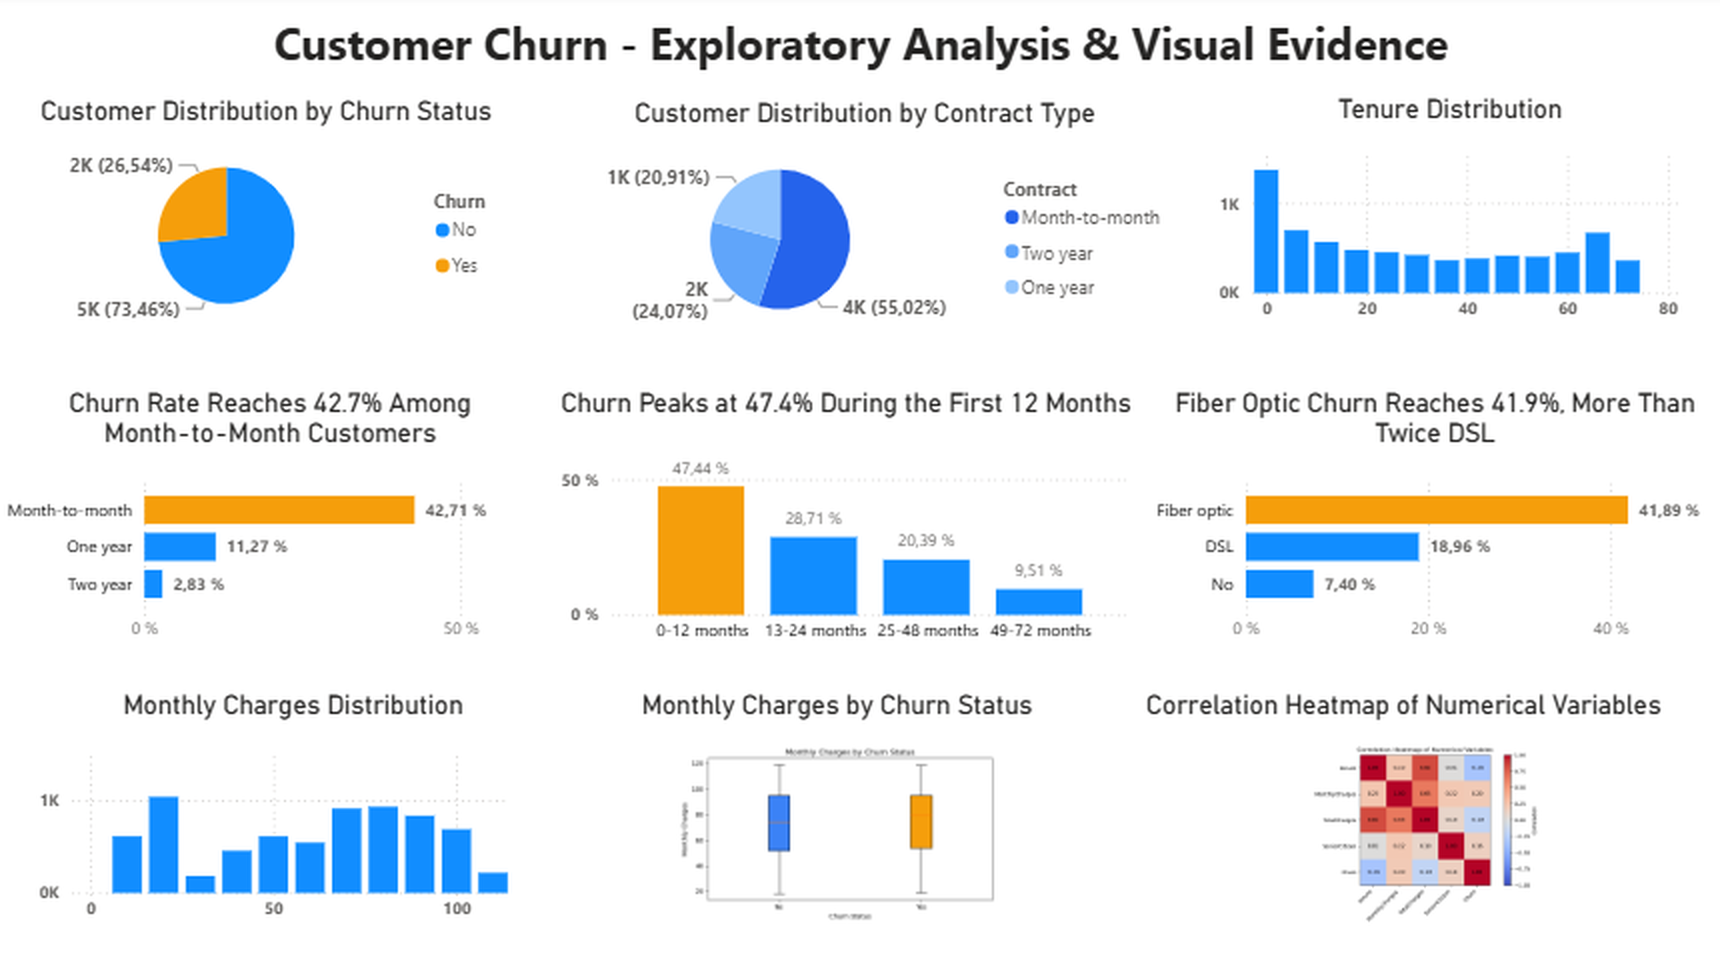

Layout of this report page (visuals, bound fields, positions):
{"tool":"powerbi","page":{"name":"Page 1","canvas":[1280,720],"ordinal":0},"visuals":[{"type":"textbox","box":[137.6,8.8,1017.1,70.2],"z":0},{"type":"pieChart","title":"Customer Distribution by Churn Status ","fields":{"Category":["WA_Fn-UseC_-Telco-Customer-Churn.Churn"],"Y":["WA_Fn-UseC_-Telco-Customer-Churn.Total Clients"]},"box":[24.9,74.6,371.7,171.2],"z":1000},{"type":"pieChart","title":"Customer Distribution by Contract Type","fields":{"Y":["WA_Fn-UseC_-Telco-Customer-Churn.Total Clients"],"Category":["WA_Fn-UseC_-Telco-Customer-Churn.Contract"]},"box":[419.3,76.1,461,174.1],"z":2000},{"type":"clusteredColumnChart","title":"Tenure Distribution ","fields":{"Category":["WA_Fn-UseC_-Telco-Customer-Churn.Tenure (6-Month Bins)"],"Y":["WA_Fn-UseC_-Telco-Customer-Churn.Total Clients"]},"box":[902.9,73.2,348.3,175.6],"z":3000},{"type":"clusteredColumnChart","title":"Monthly Charges Distribution ","fields":{"Y":["WA_Fn-UseC_-Telco-Customer-Churn.Total Clients"],"Category":["WA_Fn-UseC_-Telco-Customer-Churn.Monthly Charges (10-Unit Bins)"]},"box":[39.5,509.3,382,178.5],"z":4000},{"type":"pythonVisual","title":"Monthly Charges by Churn Status ","fields":{"Values":["WA_Fn-UseC_-Telco-Customer-Churn.Churn","WA_Fn-UseC_-Telco-Customer-Churn.MonthlyCharges"]},"box":[388.2,509.3,481.5,178.5],"z":5000},{"type":"pythonVisual","title":"Correlation Heatmap of Numerical Variables","fields":{"Values":["WA_Fn-UseC_-Telco-Customer-Churn.Churn","WA_Fn-UseC_-Telco-Customer-Churn.tenure","WA_Fn-UseC_-Telco-Customer-Churn.MonthlyCharges","WA_Fn-UseC_-Telco-Customer-Churn.TotalCharges","WA_Fn-UseC_-Telco-Customer-Churn.SeniorCitizen"]},"box":[836.3,509.3,415,179.2],"z":6000},{"type":"clusteredBarChart","title":"Churn Rate Reaches 42.7% Among Month-to-Month Customers","fields":{"Category":["WA_Fn-UseC_-Telco-Customer-Churn.Contract"],"Y":["WA_Fn-UseC_-Telco-Customer-Churn.Churn Rate"]},"box":[8.8,288.3,409.8,194.6],"z":7000},{"type":"clusteredColumnChart","title":"Churn Peaks at 47.4% During the First 12 Months","fields":{"Category":["WA_Fn-UseC_-Telco-Customer-Churn.Tenure Group"],"Y":["WA_Fn-UseC_-Telco-Customer-Churn.Churn Rate"]},"box":[421.5,287.6,427.3,196.1],"z":8000},{"type":"clusteredBarChart","title":"Fiber Optic Churn Reaches 41.9%, More Than Twice DSL","fields":{"Category":["WA_Fn-UseC_-Telco-Customer-Churn.InternetService"],"Y":["WA_Fn-UseC_-Telco-Customer-Churn.Churn Rate"]},"box":[851.7,288.3,428.8,194.6],"z":9000}]}

Visuals, with their boxes in screenshot pixels (x1, y1, x2, y2), scaled from the page's 1280x720 canvas onto the 1720x976 screenshot:
textbox: [185, 12, 1552, 107]
"Customer Distribution by Churn Status " pieChart: [33, 101, 533, 333]
"Customer Distribution by Contract Type" pieChart: [563, 103, 1183, 339]
"Tenure Distribution " clusteredColumnChart: [1213, 99, 1681, 337]
"Monthly Charges Distribution " clusteredColumnChart: [53, 690, 566, 932]
"Monthly Charges by Churn Status " pythonVisual: [522, 690, 1169, 932]
"Correlation Heatmap of Numerical Variables" pythonVisual: [1124, 690, 1681, 933]
"Churn Rate Reaches 42.7% Among Month-to-Month Customers" clusteredBarChart: [12, 391, 562, 655]
"Churn Peaks at 47.4% During the First 12 Months" clusteredColumnChart: [566, 390, 1141, 656]
"Fiber Optic Churn Reaches 41.9%, More Than Twice DSL" clusteredBarChart: [1144, 391, 1719, 655]
